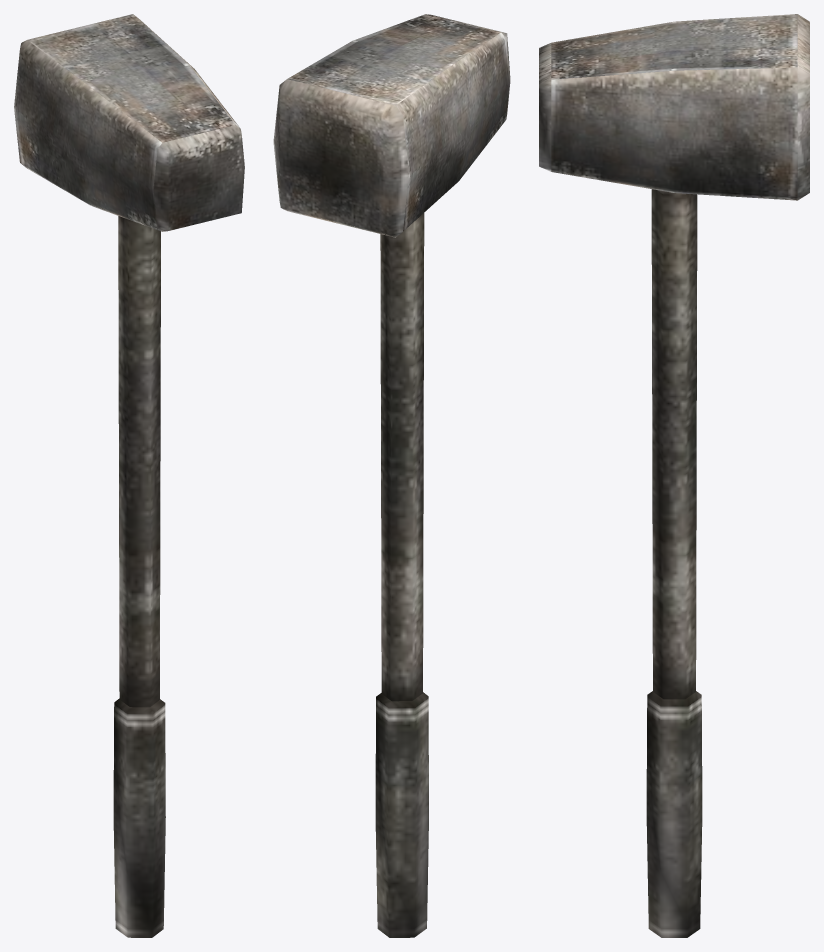
The model's file is weapons_hammer01.glb.
3 renders of one model, left to right at view 1: azimuth 30°, elevation 25°; view 2: azimuth 150°, elevation 25°; view 3: azimuth 270°, elevation 25°, orthographic. The views are drawn at different scales.
Parts seen in each view (by area): view 1: hammer01; view 2: hammer01; view 3: hammer01.
Boxes of the visible parts, left/top/right/bottom form: hammer01: left=14, top=14, right=244, bottom=937; hammer01: left=273, top=14, right=510, bottom=937; hammer01: left=539, top=14, right=809, bottom=937.
Size of the model in its own units: 0.1709 by 1.06 by 0.2933.
1 material, 1 textured.
